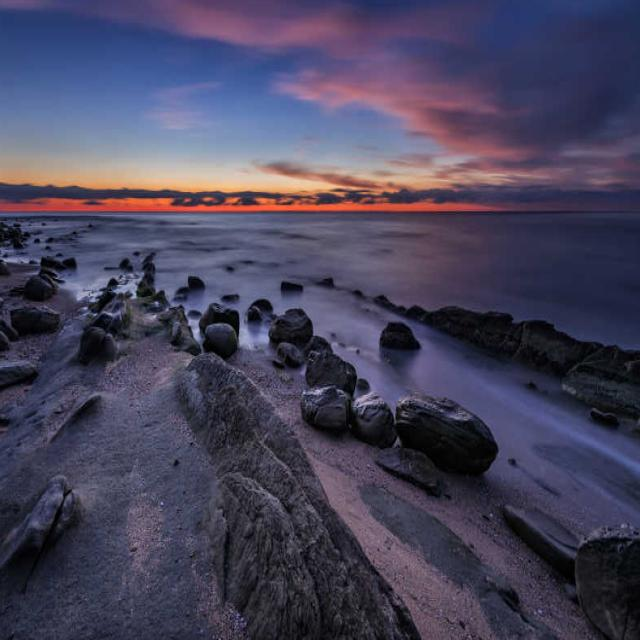reef: (290, 355, 516, 434), (405, 289, 598, 363), (184, 264, 318, 348), (34, 234, 173, 310)
